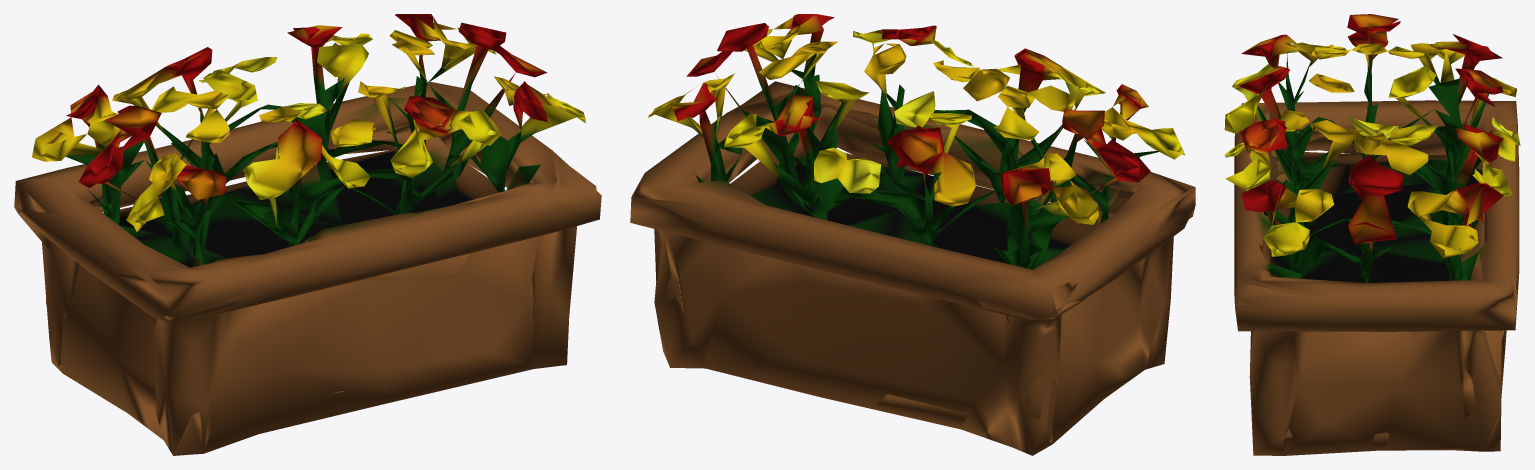
The model's file is gen3d-flower-box-lod0.glb.
The picture shows the model from 3 angles, left to right: view 1: azimuth 30°, elevation 25°; view 2: azimuth 150°, elevation 25°; view 3: azimuth 270°, elevation 25°; orthographic projection. The views are drawn at different scales.
Visible parts, largest first — view 1: part_0; view 2: part_0; view 3: part_0.
Boxes of the visible parts, <box> form: part_0: <box>14,14,601,455</box>; part_0: <box>630,14,1195,455</box>; part_0: <box>1224,14,1520,455</box>.
Bounding box in the file's own units: 1.57 × 0.9957 × 0.9443.
